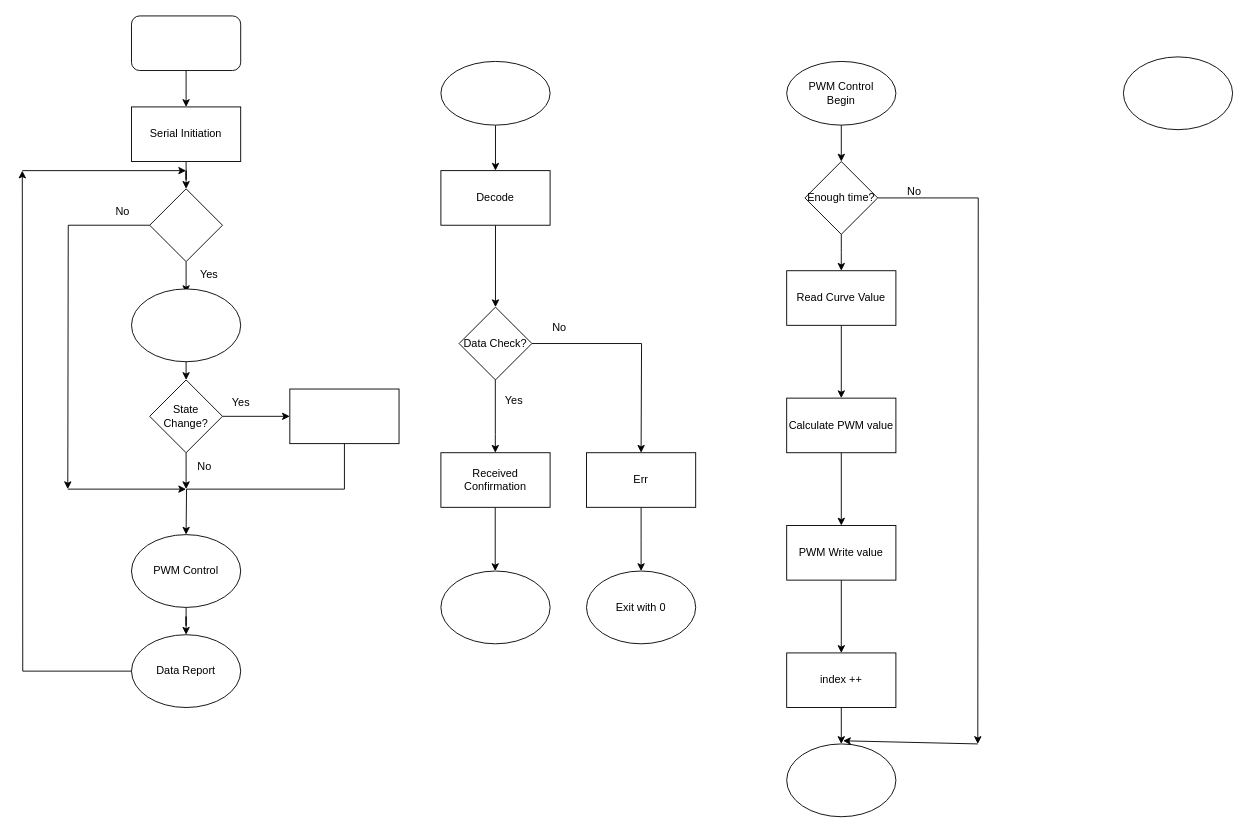
This 1249x833 diagram has some shape labels left out. The centre of each missing label's shape, as x and y in pixels:
Change Registors: (x=344, y=416)
Exit: (x=841, y=780)
Exit with 1: (x=495, y=607)
Read Serial: (x=186, y=325)
Read Serial Begin: (x=495, y=93)
Serial?: (x=185, y=225)
START: (x=186, y=43)
